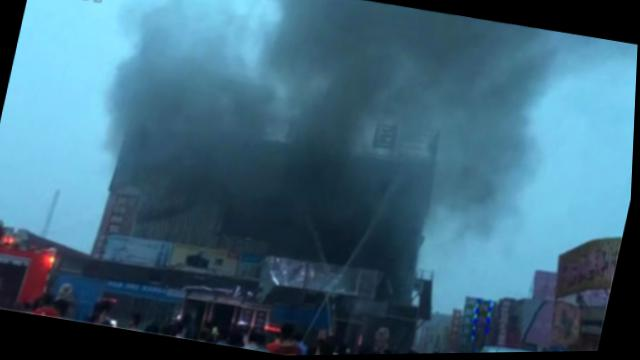smoke: (249, 0, 566, 178), (277, 142, 436, 274), (106, 0, 262, 126), (128, 111, 291, 219)
